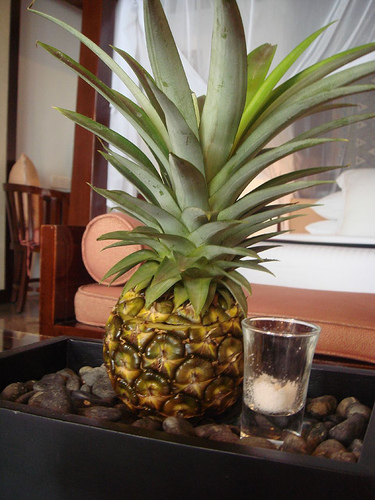pineapple: (26, 0, 373, 417)
